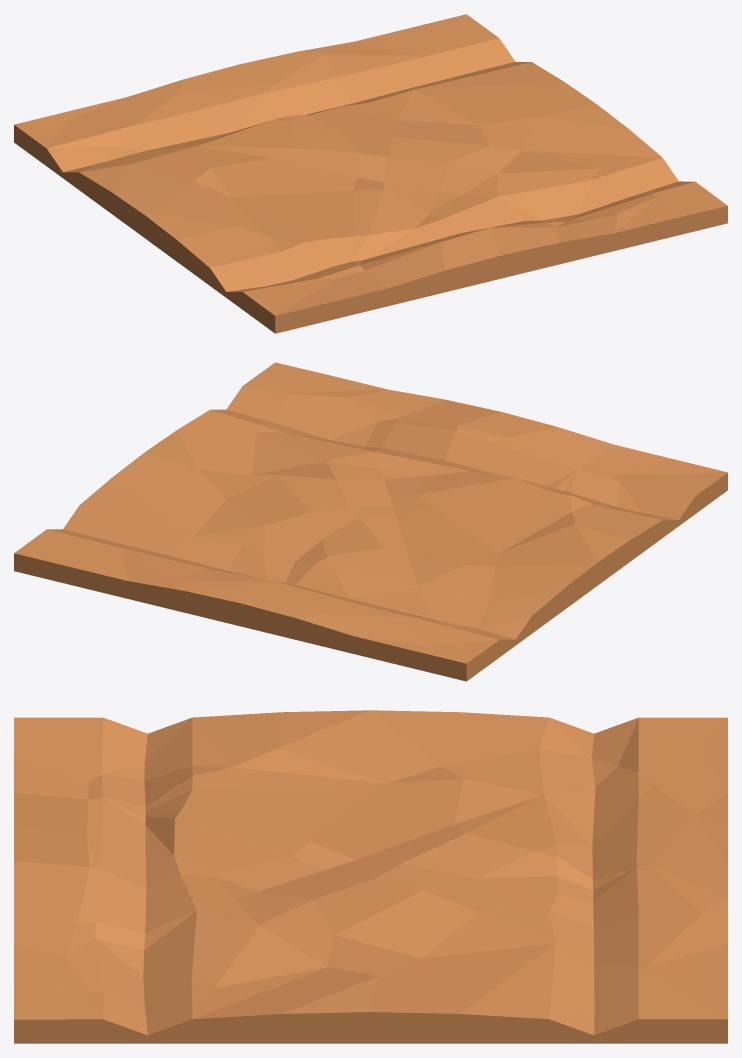
File: Road_part_1.FBX
The picture shows the model from 3 angles, top to bottom: view 1: azimuth 30°, elevation 25°; view 2: azimuth 150°, elevation 25°; view 3: azimuth 270°, elevation 25°; orthographic projection. The views are drawn at different scales.
Parts seen in each view (by area): view 1: Road_part_1; view 2: Road_part_1; view 3: Road_part_1.
Boxes of the visible parts, x1=… form: Road_part_1: x1=14, y1=14, x2=727, y2=333; Road_part_1: x1=14, y1=362, x2=727, y2=681; Road_part_1: x1=14, y1=710, x2=727, y2=1043.
Size of the model in its own units: 1.5 by 0.0861 by 1.5.
Materials: 1 (1 with a texture image).
